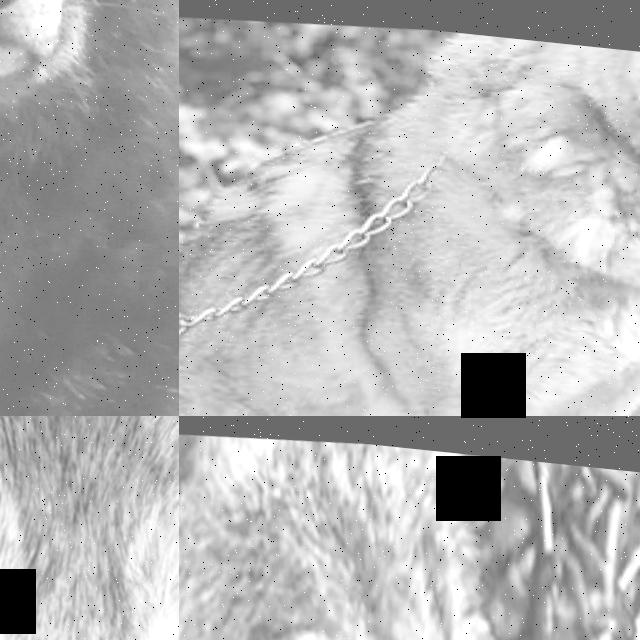wolf: (179, 0, 640, 416), (179, 416, 640, 640), (0, 0, 179, 416), (0, 416, 179, 640)
